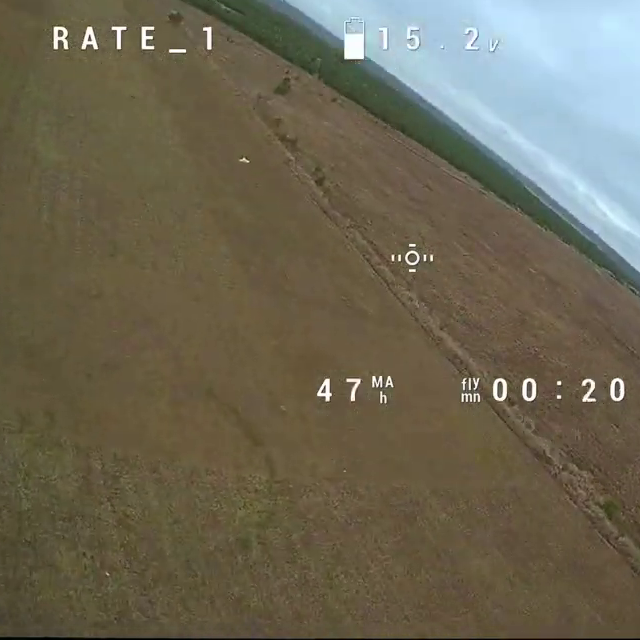drone: (237, 155, 250, 165)
